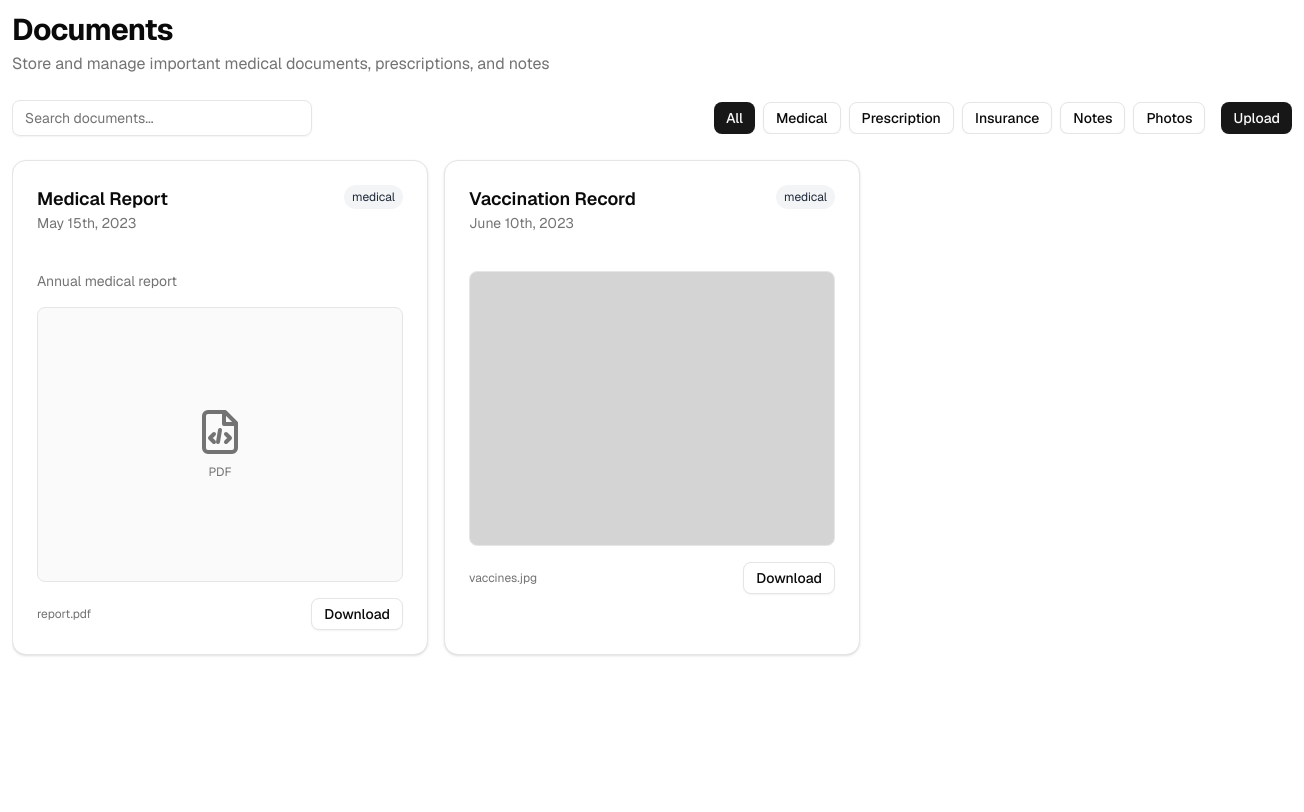
Documents Page › filters documents when searching
Note: Enter search query
Type "Vaccination" into the field with placeholder "Search documents..." at (162, 118), box [12,100,312,136]
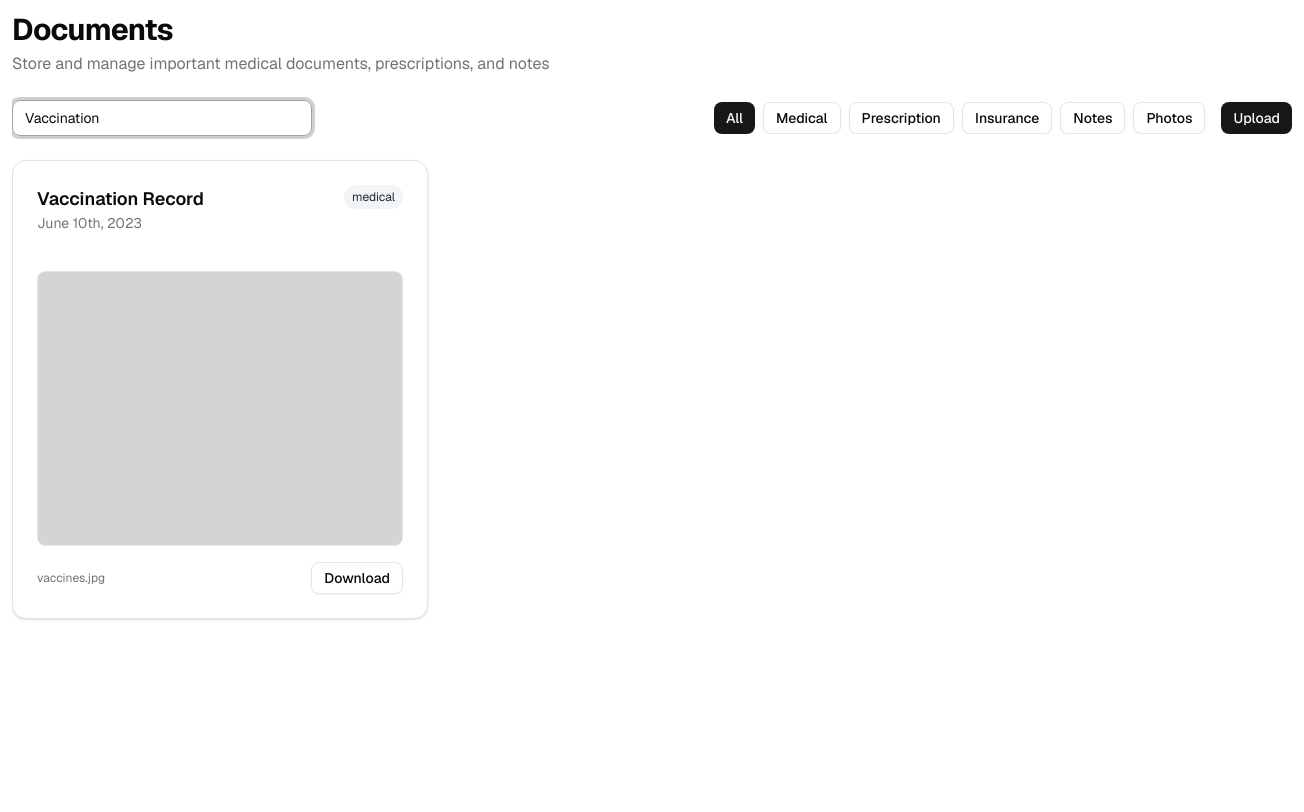
Expected: the text "Vaccination Record" is shown, [37,185,204,213]
Expected: the text "Medical Report" is gone
